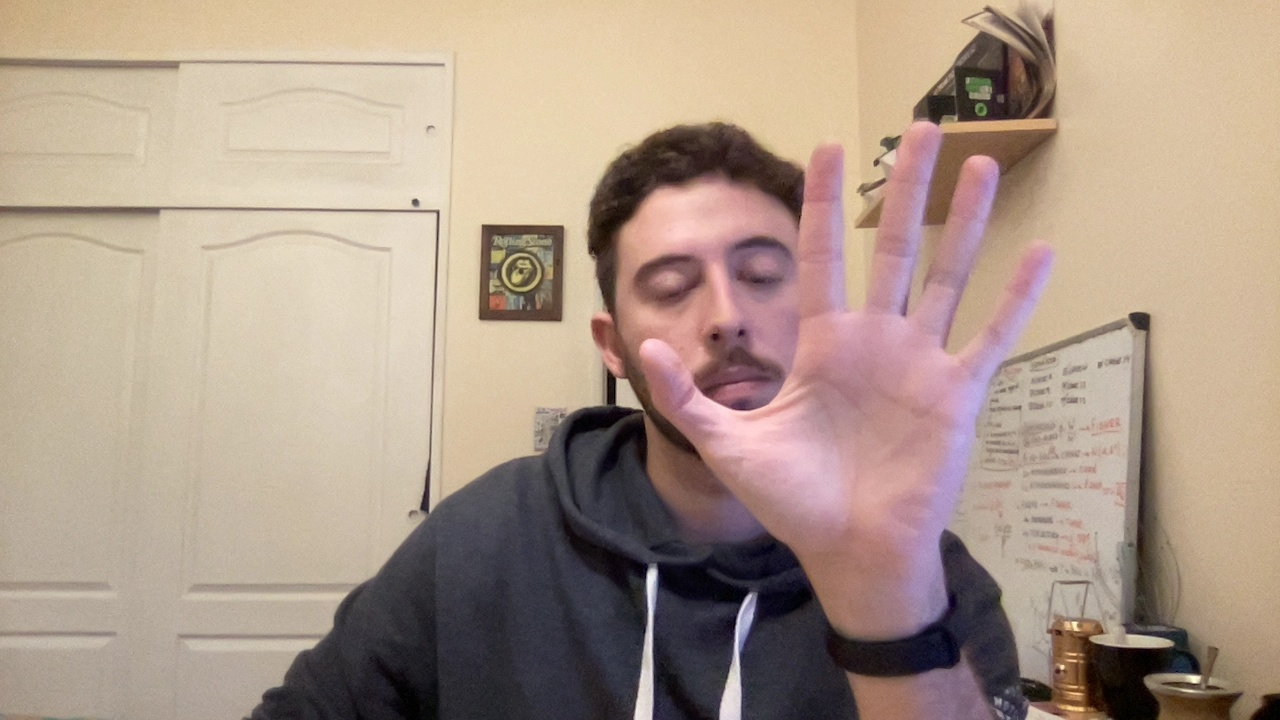abierto: (614, 109, 1051, 570)
